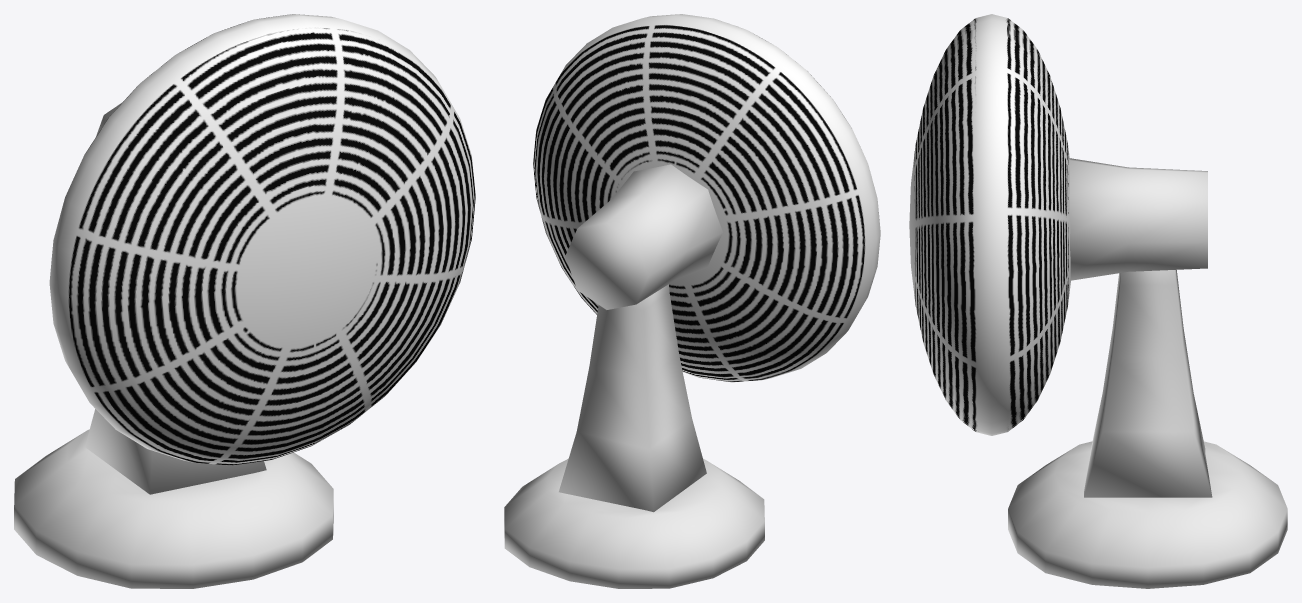
Rendered from Fan.fbx.
3 renders of one model, left to right at view 1: azimuth 30°, elevation 25°; view 2: azimuth 150°, elevation 25°; view 3: azimuth 270°, elevation 25°, orthographic. The views are drawn at different scales.
Parts seen in each view (by area): view 1: Cage, Base; view 2: Cage, Base; view 3: Cage, Base.
Boxes of the visible parts, <box> form: Cage: <box>49,14,475,465</box>; Base: <box>14,409,333,588</box>; Cage: <box>533,14,880,382</box>; Base: <box>504,284,764,588</box>; Cage: <box>909,14,1207,435</box>; Base: <box>1008,269,1287,588</box>.
Size of the model in its own units: 899 by 1165 by 804.
2 materials, 1 textured.
